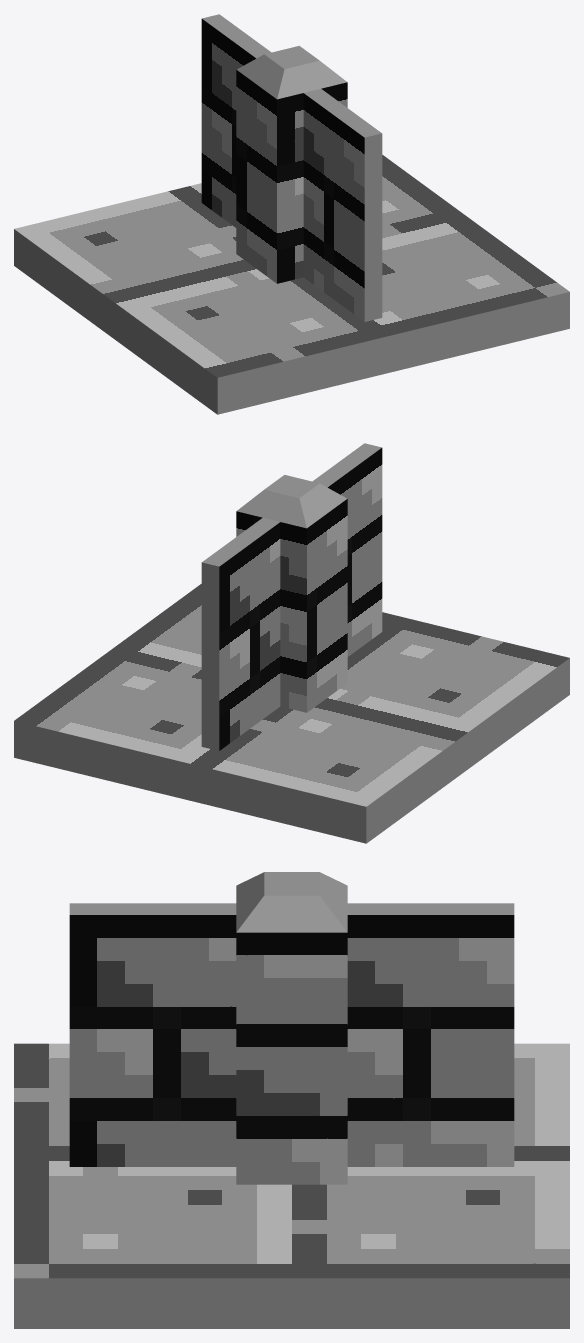
File: MazeElems.fbx
3 renders of one model, top to bottom at view 1: azimuth 30°, elevation 25°; view 2: azimuth 150°, elevation 25°; view 3: azimuth 270°, elevation 25°, orthographic. The views are drawn at different scales.
Parts seen in each view (by area): view 1: Floor, Wall, Pillar; view 2: Floor, Wall, Pillar; view 3: Floor, Wall, Pillar.
Boxes of the visible parts, x1=… form: Floor: x1=14, y1=155, x2=569, y2=414; Wall: x1=201, y1=14, x2=382, y2=321; Pillar: x1=236, y1=46, x2=347, y2=283; Floor: x1=14, y1=584, x2=569, y2=843; Wall: x1=201, y1=443, x2=382, y2=750; Pillar: x1=236, y1=475, x2=347, y2=712; Floor: x1=14, y1=1043, x2=569, y2=1328; Wall: x1=69, y1=903, x2=514, y2=1166; Pillar: x1=236, y1=872, x2=347, y2=1184.
Size of the model in its own units: 2 by 1.3 by 2.
